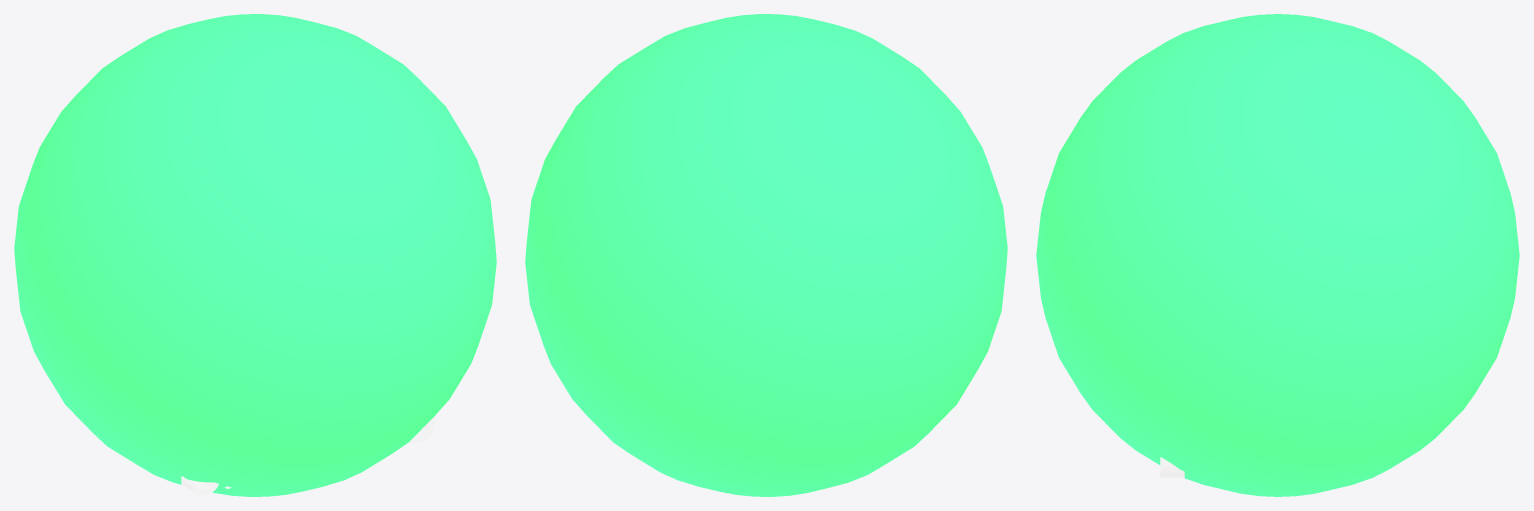
File: oleo-sintetico.glb
3 views of the same model, side by side, from view 1: azimuth 30°, elevation 25°; view 2: azimuth 150°, elevation 25°; view 3: azimuth 270°, elevation 25° (orthographic).
Visible parts, largest first — view 1: Sphere, Text.001; view 2: Sphere; view 3: Sphere.
Boxes of the visible parts, <box> form: Sphere: <box>14,14,496,496</box>; Text.001: <box>181,416,435,495</box>; Sphere: <box>525,14,1007,496</box>; Sphere: <box>1036,14,1519,496</box>.
Bounding box in the file's own units: 5.15 × 5.15 × 5.15.
